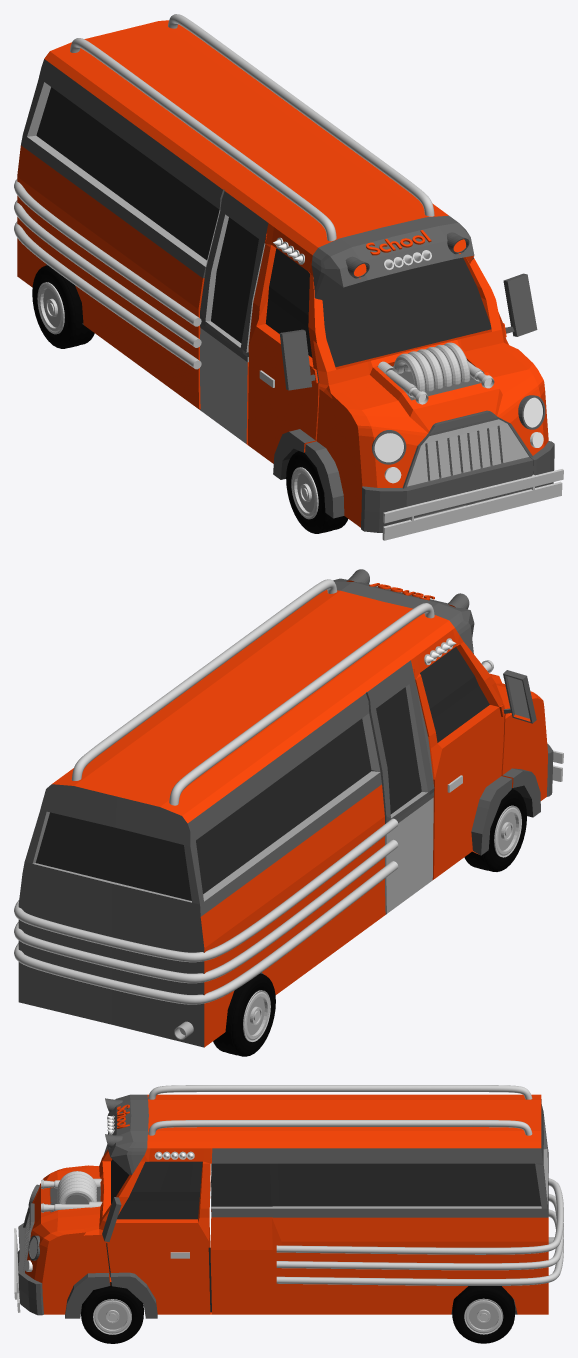
Rendered from CR-CAR-7A.fbx.
3 renders of one model, top to bottom at view 1: azimuth 30°, elevation 25°; view 2: azimuth 150°, elevation 25°; view 3: azimuth 270°, elevation 25°, orthographic. The views are drawn at different scales.
Visible parts, largest first — view 1: BODY, NurbsPath.001, WHEEL.004, WHEEL.001; view 2: BODY, NurbsPath.001, WHEEL.004, WHEEL.001; view 3: BODY, NurbsPath.001, WHEEL.002, WHEEL.003.
Part boxes in pixels (x1=…): BODY: x1=17, y1=20, x2=563, y2=540; NurbsPath.001: x1=14, y1=14, x2=434, y2=369; WHEEL.004: x1=32, y1=265, x2=94, y2=348; WHEEL.001: x1=286, y1=451, x2=347, y2=533; BODY: x1=18, y1=569, x2=563, y2=1047; NurbsPath.001: x1=14, y1=579, x2=434, y2=1004; WHEEL.004: x1=213, y1=973, x2=275, y2=1056; WHEEL.001: x1=464, y1=789, x2=526, y2=871; BODY: x1=14, y1=1094, x2=548, y2=1318; NurbsPath.001: x1=148, y1=1085, x2=563, y2=1285; WHEEL.002: x1=452, y1=1286, x2=515, y2=1343; WHEEL.003: x1=81, y1=1282, x2=143, y2=1343.
Size of the model in its own units: 131 by 141 by 341.
